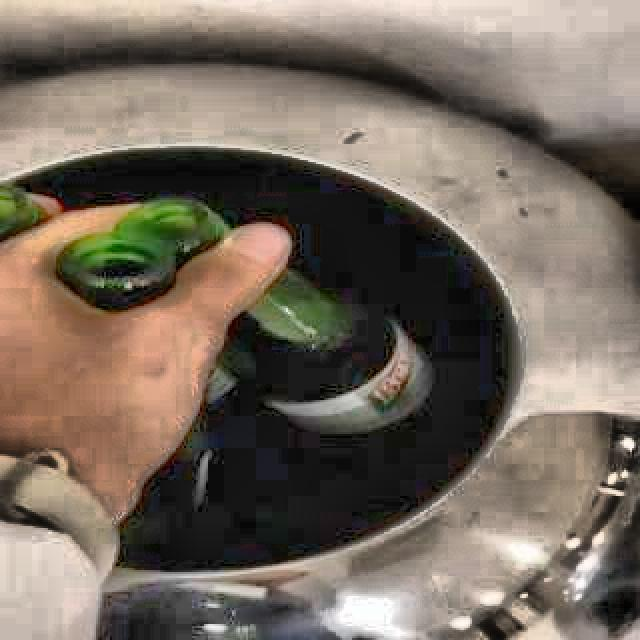glass: (205, 270, 432, 435), (53, 199, 229, 314), (0, 183, 43, 242)
